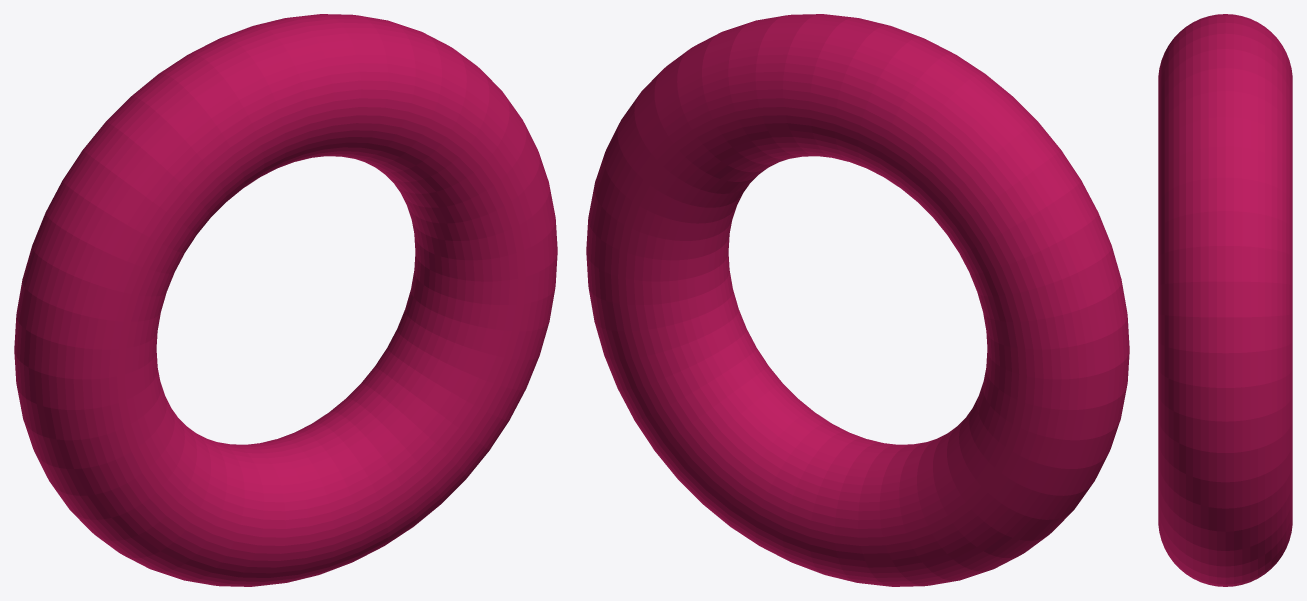
3 renders of one model, left to right at view 1: azimuth 30°, elevation 25°; view 2: azimuth 150°, elevation 25°; view 3: azimuth 270°, elevation 25°, orthographic. The views are drawn at different scales.
Visible parts, largest first — view 1: world; view 2: world; view 3: world.
Part boxes in pixels (x1=…): world: x1=14, y1=14, x2=557, y2=586; world: x1=586, y1=14, x2=1129, y2=586; world: x1=1158, y1=14, x2=1292, y2=586.
Size of the model in its own units: 35.73 by 35.66 by 8.38.
